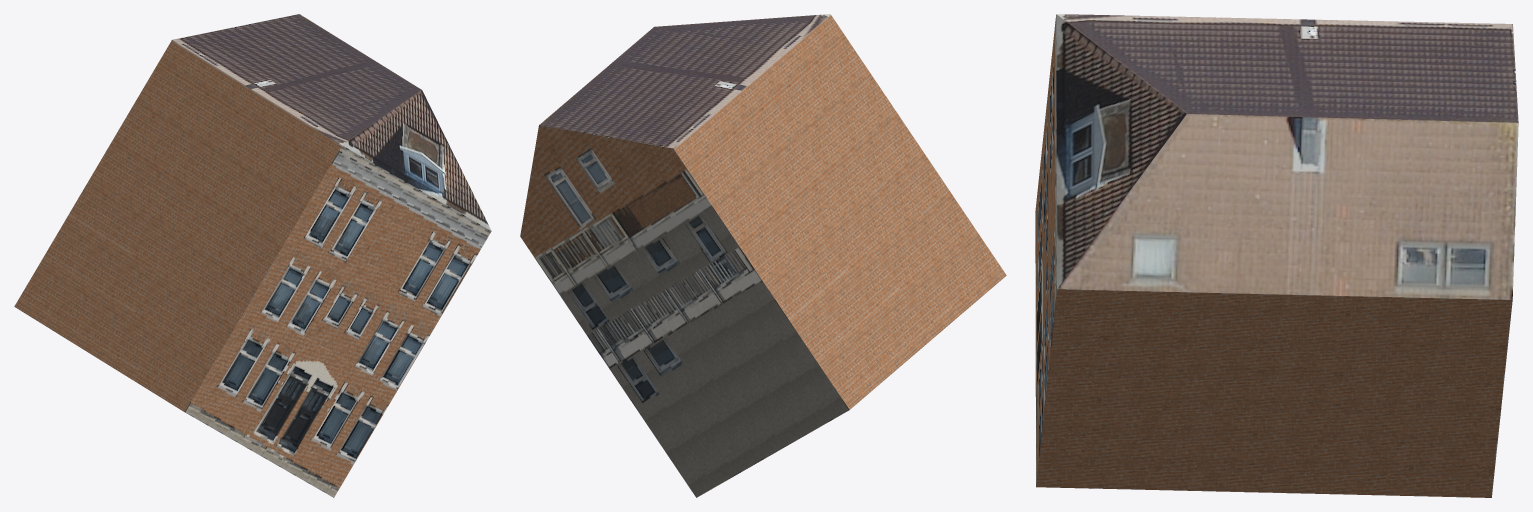
The picture shows the model from 3 angles, left to right: view 1: azimuth 30°, elevation 25°; view 2: azimuth 150°, elevation 25°; view 3: azimuth 270°, elevation 25°; orthographic projection. The views are drawn at different scales.
Visible parts, largest first — view 1: BAG_0599100000760396 (×2); view 2: BAG_0599100000760396 (×2); view 3: BAG_0599100000760396 (×3).
Boxes of the visible parts, box(x1,y1,x2,y2) form: BAG_0599100000760396 (×2): box(14, 14, 491, 497); BAG_0599100000760396 (×2): box(520, 14, 1006, 497); BAG_0599100000760396 (×3): box(1035, 14, 1518, 497).
Bounding box in the file's own units: 13.51 × 14.18 × 12.42.
1 material, 1 textured.
